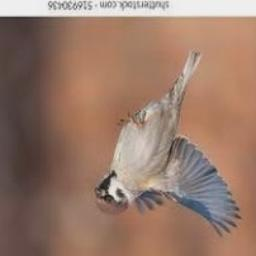Sparrow: (95, 53, 242, 239)
